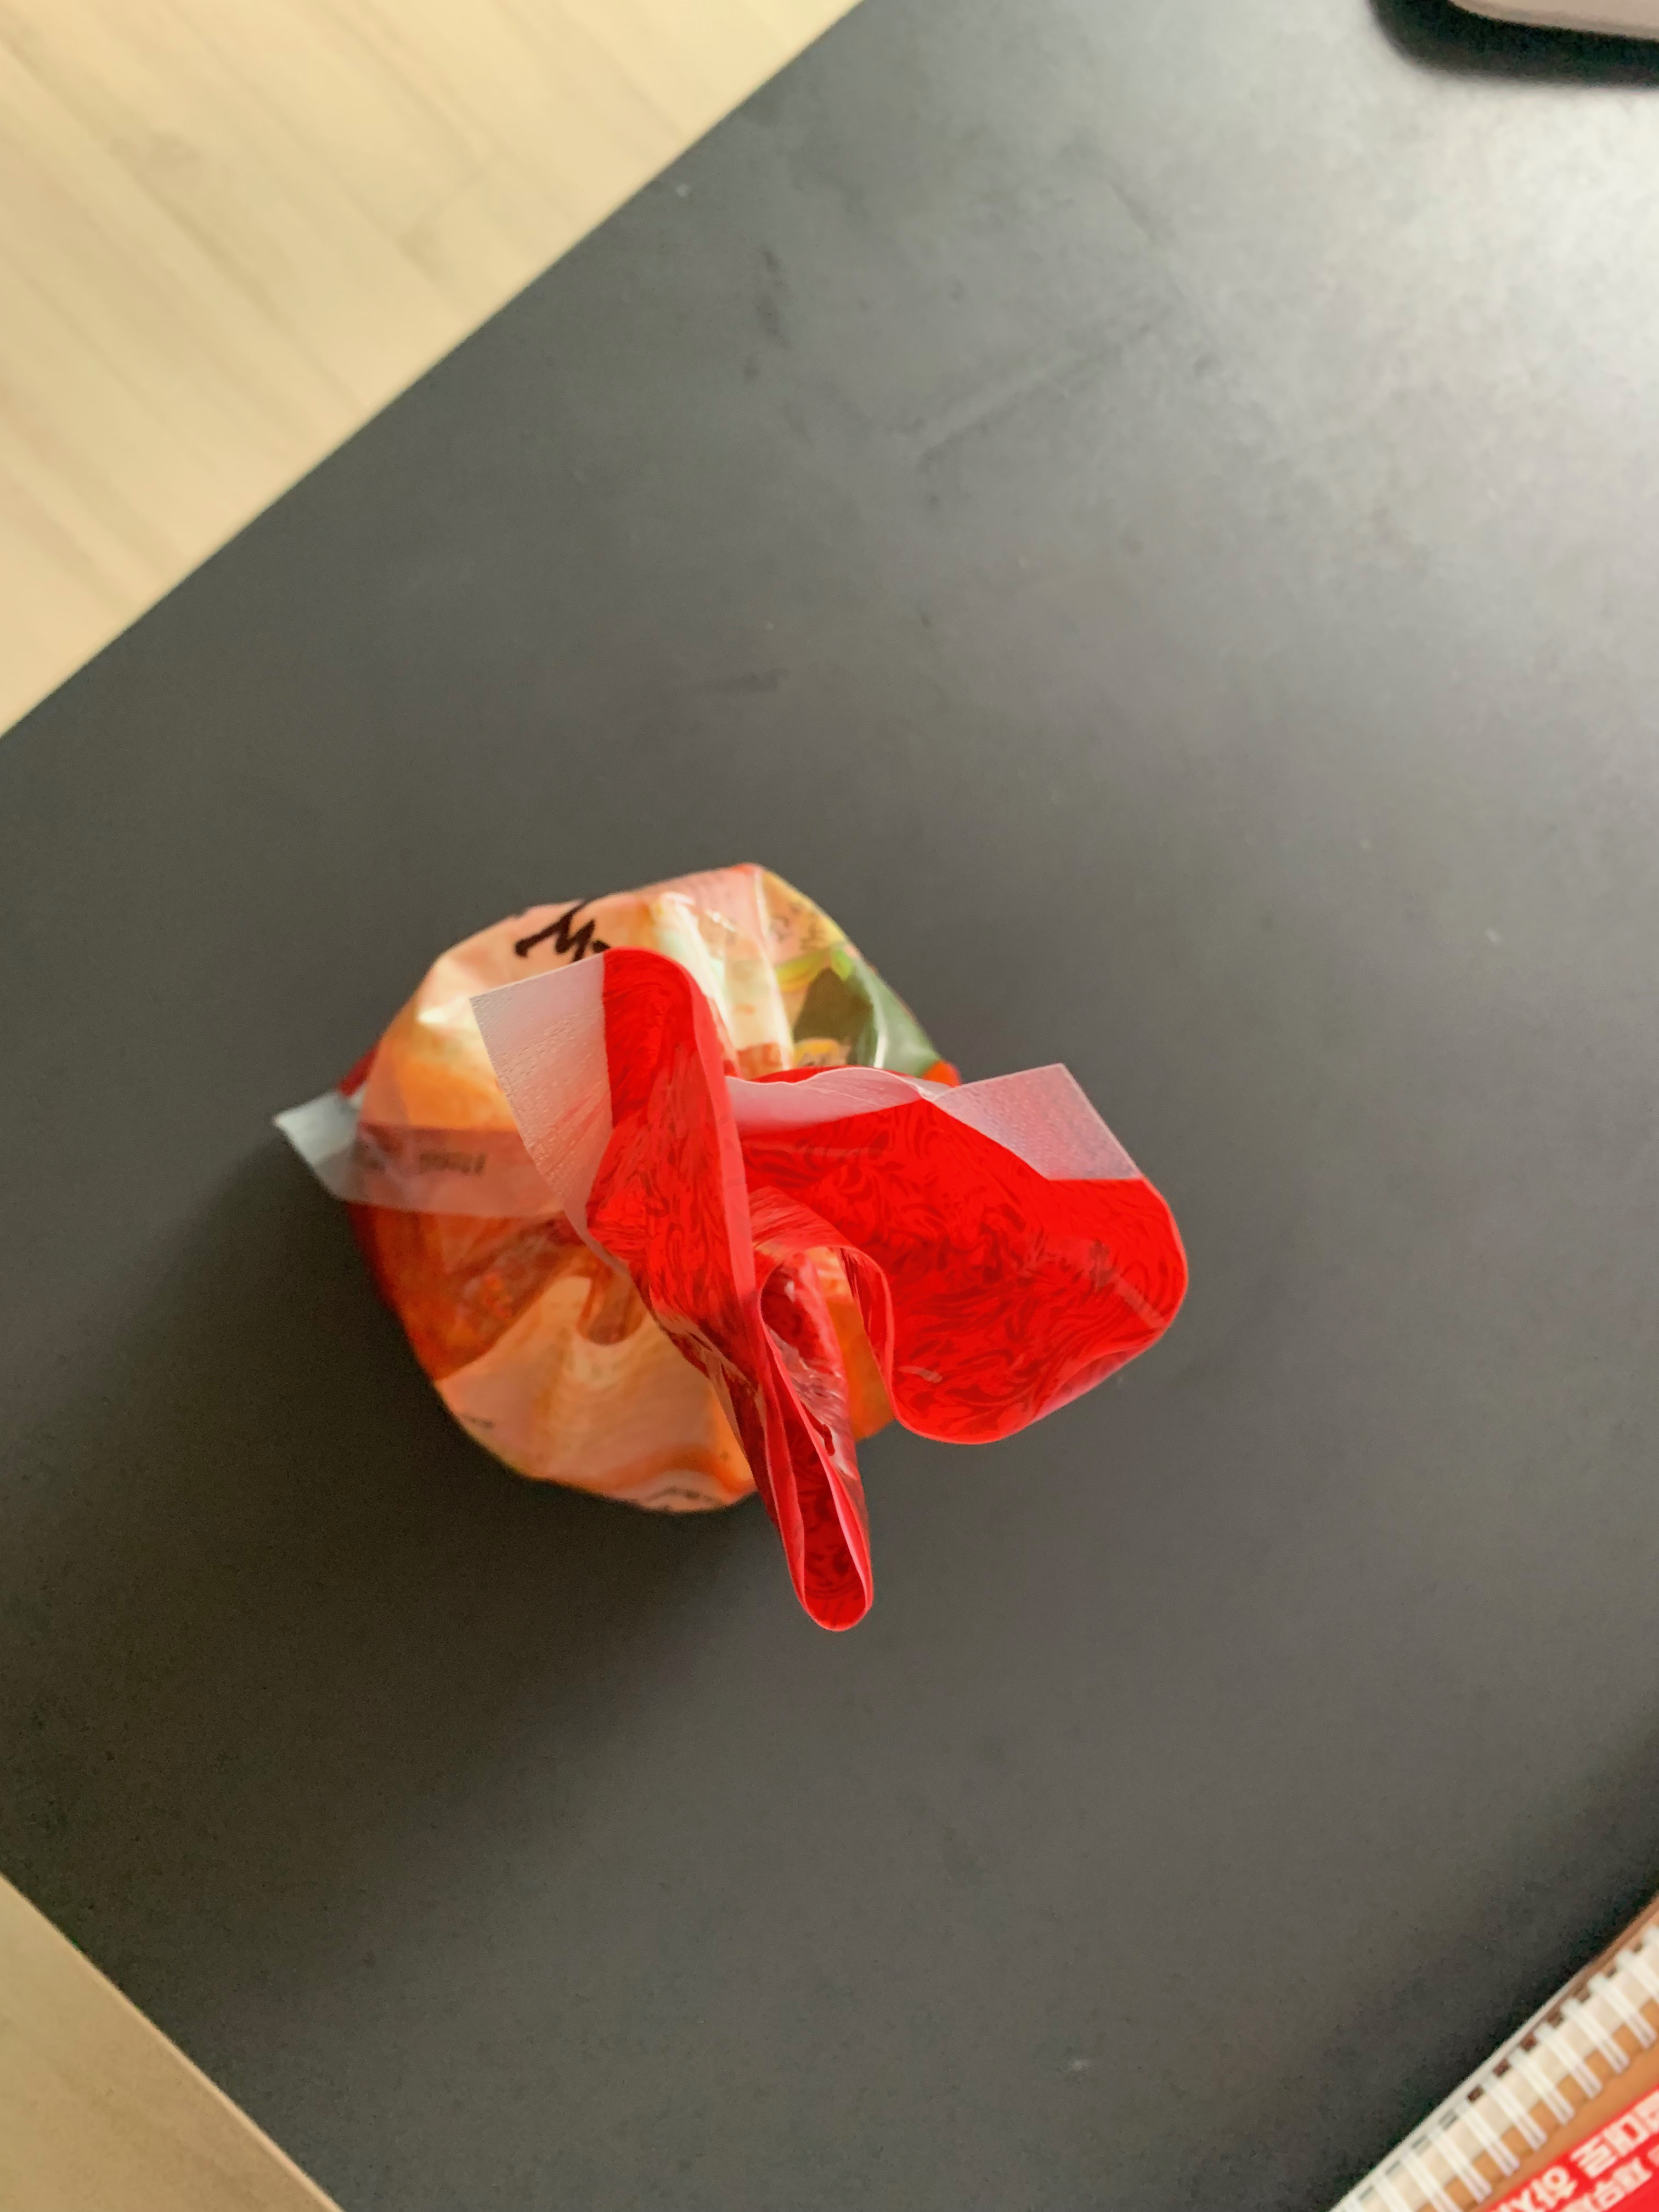kimchi: (352, 857, 1183, 1632)
